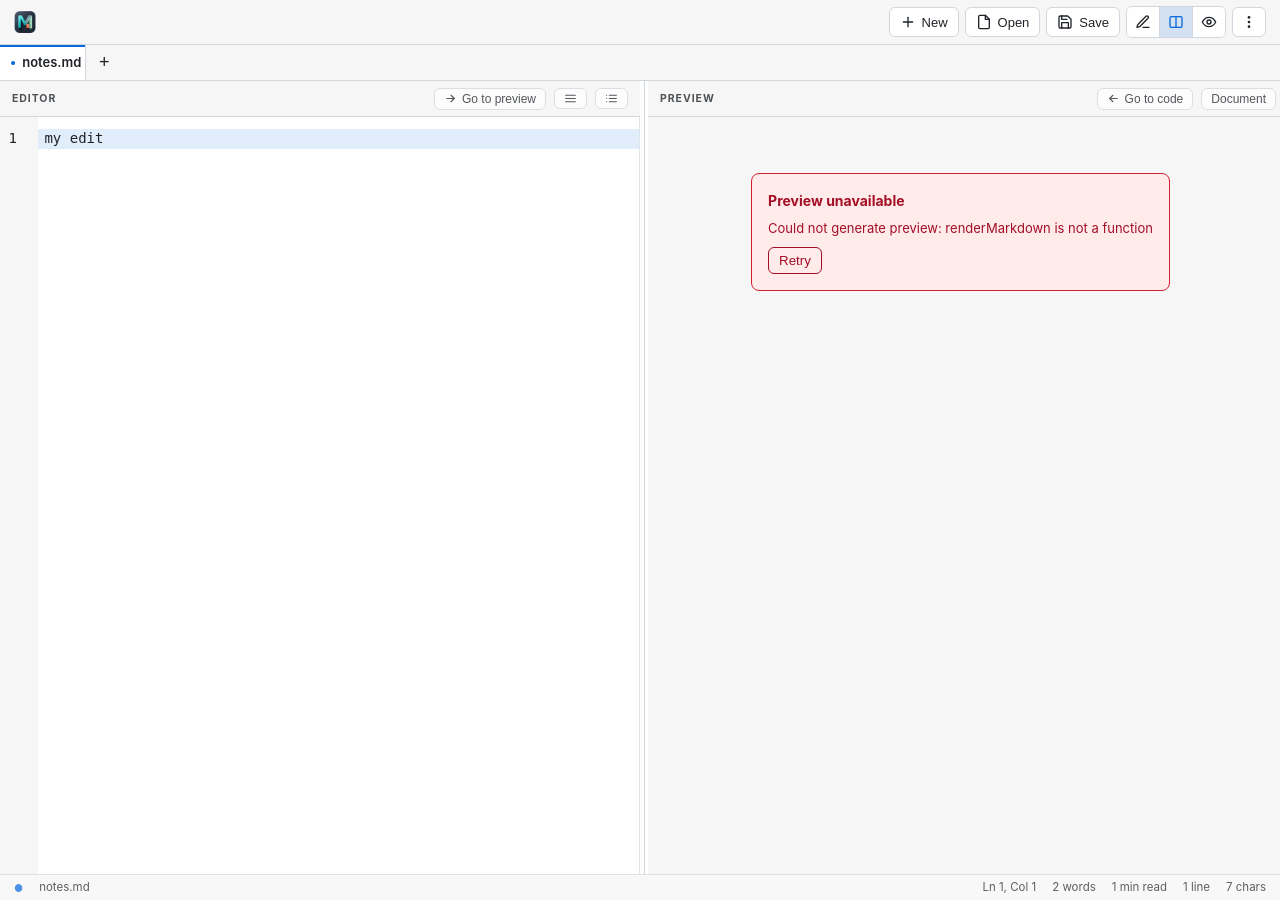
Test: external file changes › waits while a question about unsaved work is on screen
Expected: the element with class "cm-editor" is shown, [0, 117, 639, 874]
Press w
Wait 3150 ms
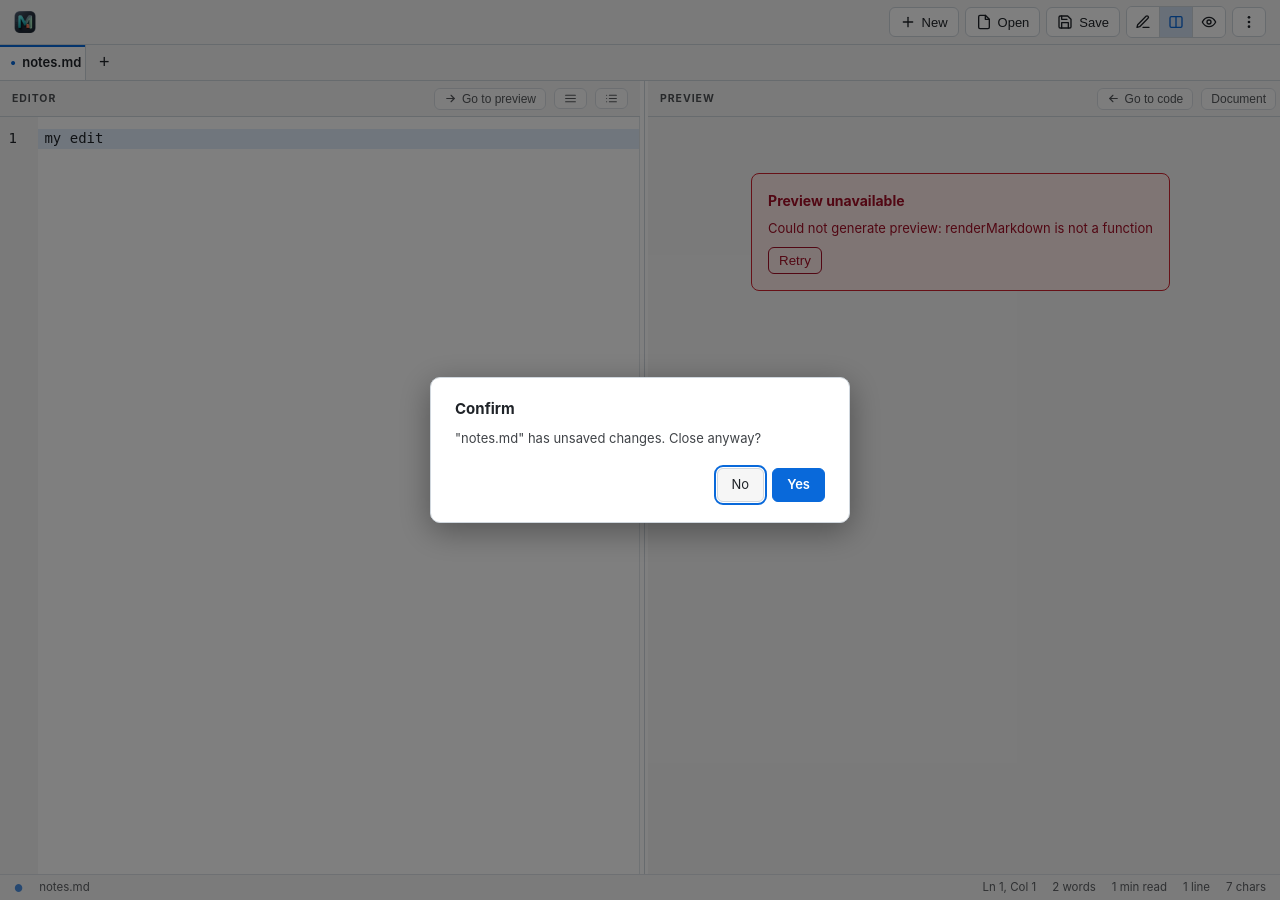
Result: the text "\"notes.md\" has unsaved changes. Close anyway?" is shown at [455, 430, 761, 446]
Click the button "No" at (740, 485), box [717, 468, 764, 502]
Wait 3400 ms
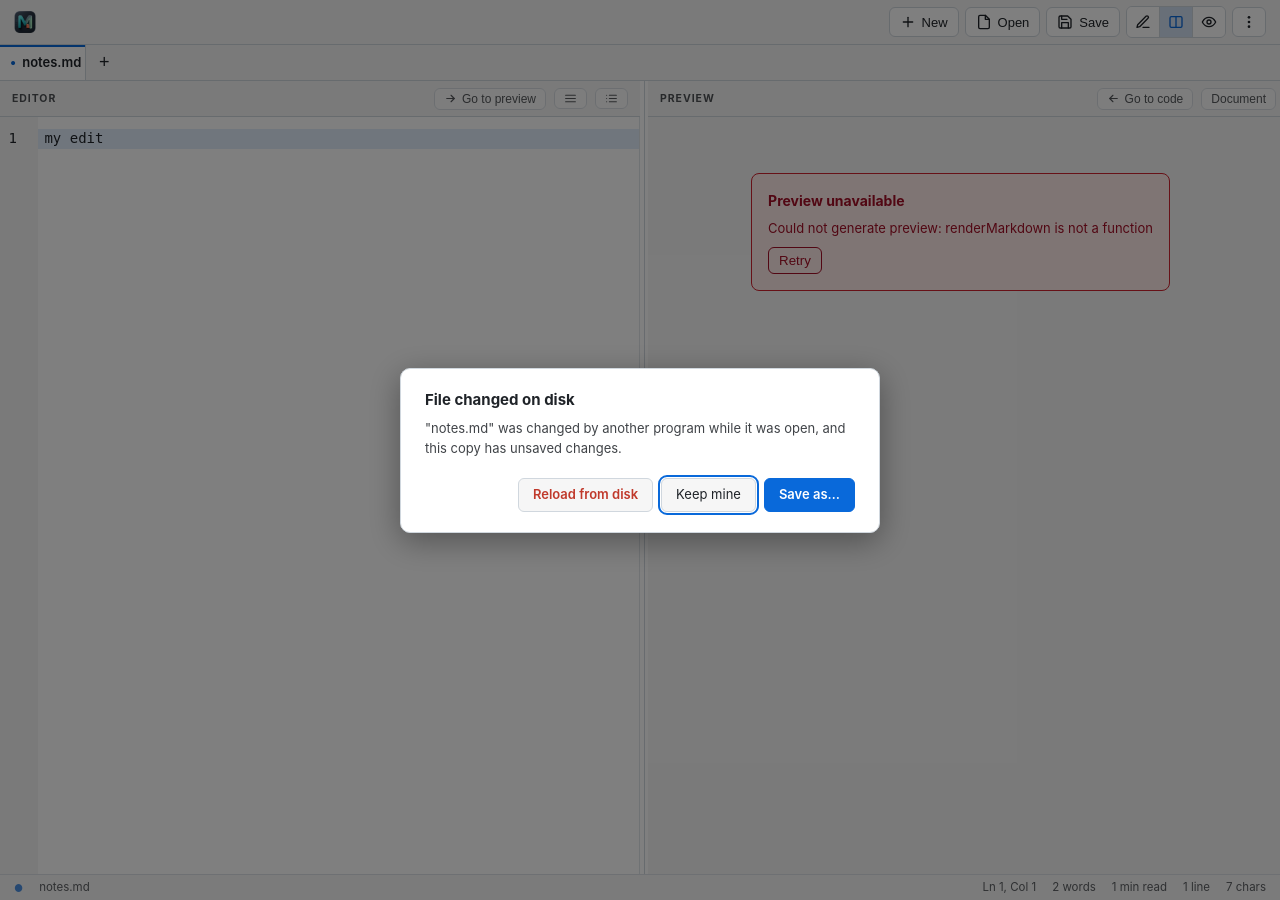
Result: the dialog with class "conflict-overlay" is shown
